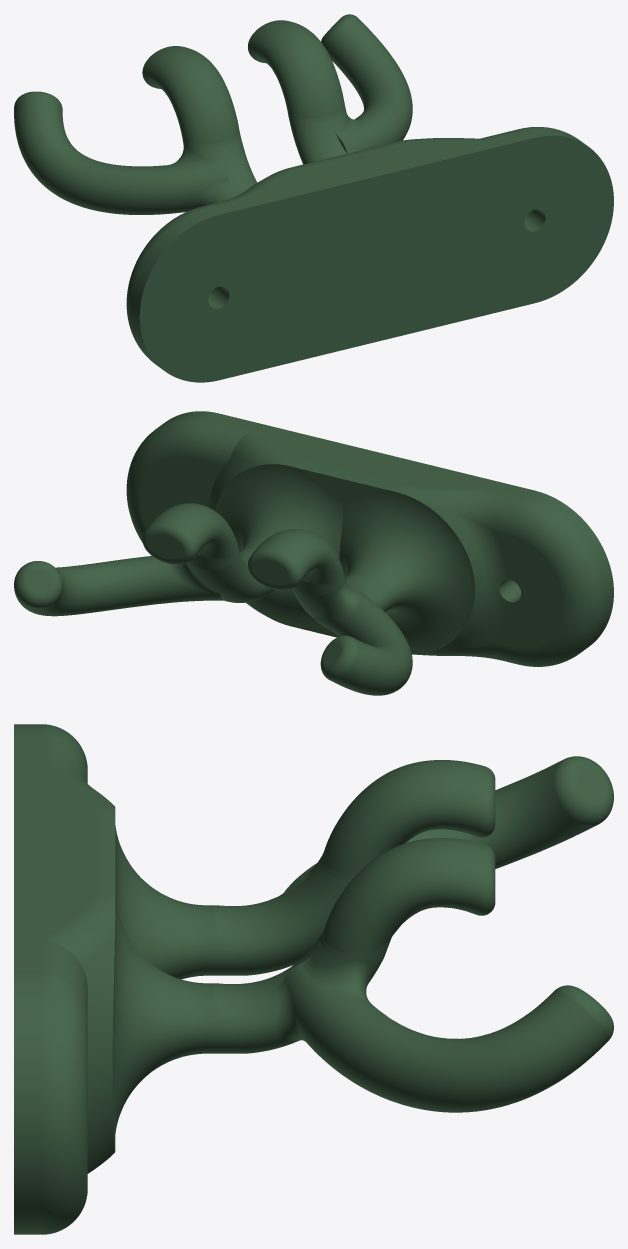
File: va-dent-2.glb
The picture shows the model from 3 angles, top to bottom: view 1: azimuth 30°, elevation 25°; view 2: azimuth 150°, elevation 25°; view 3: azimuth 270°, elevation 25°; orthographic projection. The views are drawn at different scales.
Bounding box in the file's own units: 0.09 × 0.0359 × 0.065.
